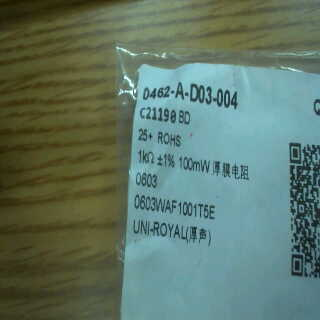1kR: (136, 149, 157, 166)
